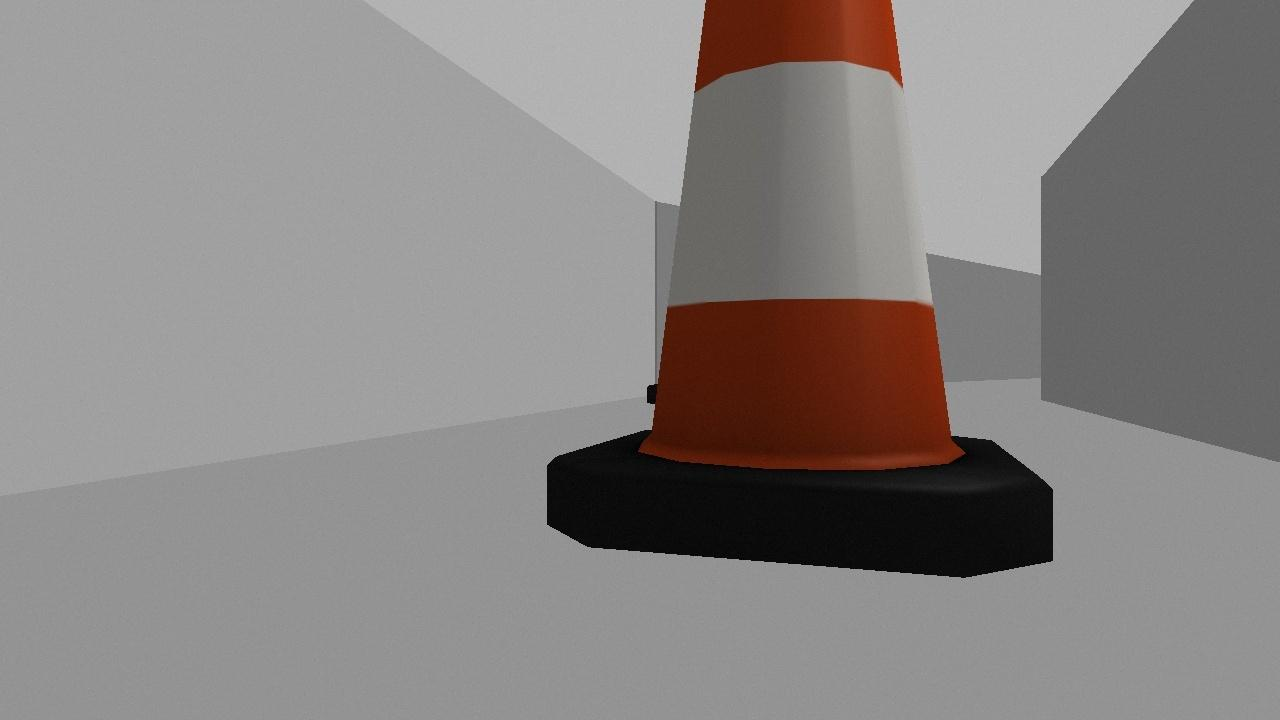cone_barrel: (544, 0, 1052, 576)
